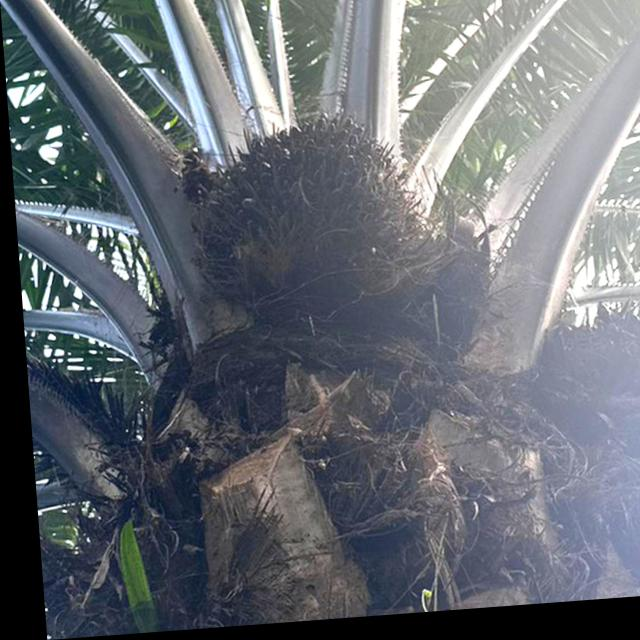unripe: (170, 102, 438, 337)
